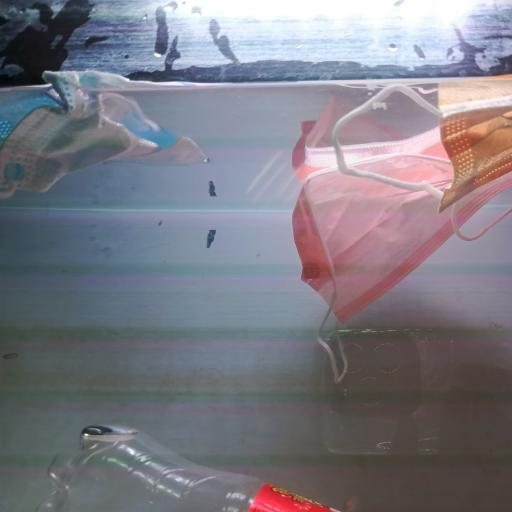mask: (288, 130, 487, 381), (0, 67, 210, 221), (335, 88, 512, 232)
plastic_bottle: (50, 413, 354, 512)
